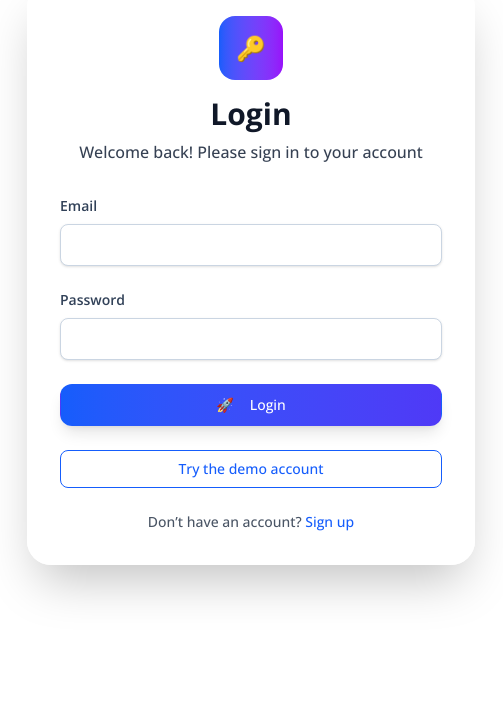
Test case: LoginForm Component › a demo that is not configured says so
The width and height of the screenshot is (503, 704).
Click the button "Try the demo account" at (251, 469), box [60,450,442,488]
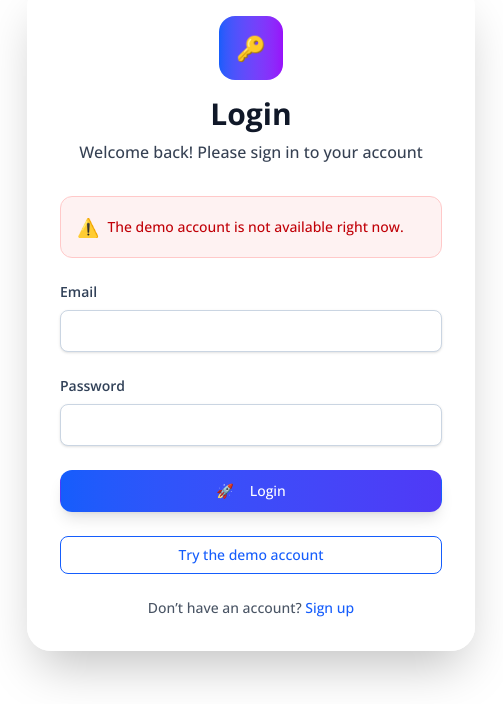
Result: the text "The demo account is not available right now." is shown at [108,217,404,237]
